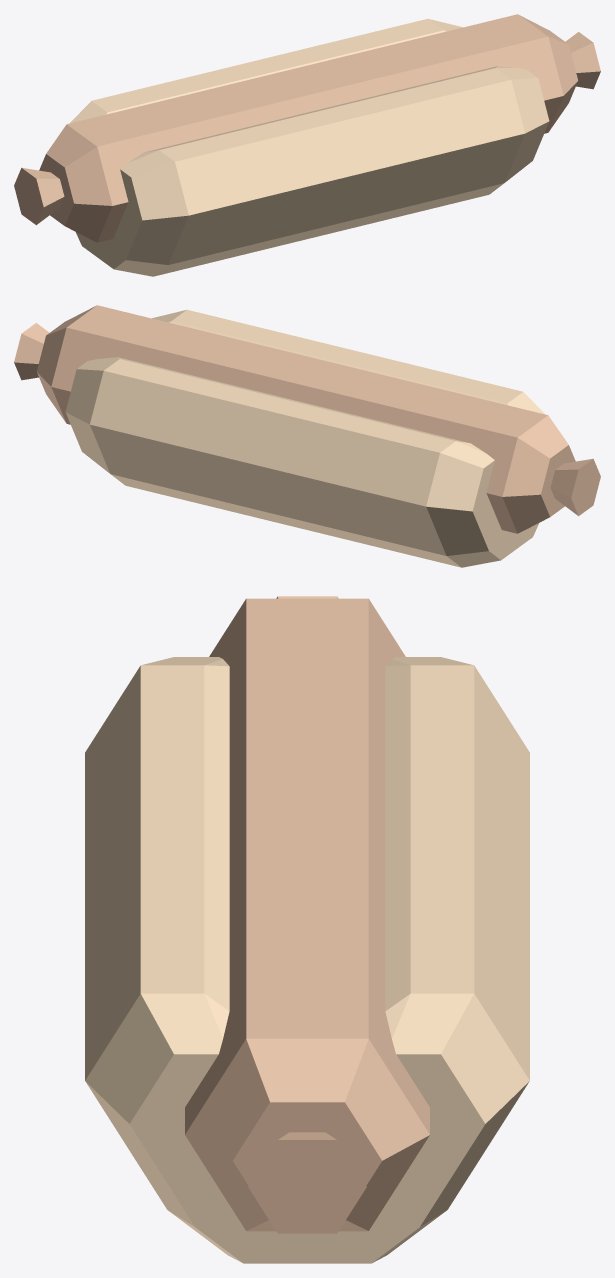
The model's file is hotDog.glb.
3 views of the same model, one above another, from view 1: azimuth 30°, elevation 25°; view 2: azimuth 150°, elevation 25°; view 3: azimuth 270°, elevation 25° (orthographic). The views are drawn at different scales.
Parts seen in each view (by area): view 1: hotDog, sausage; view 2: hotDog, sausage; view 3: hotDog, sausage.
Part boxes in pixels (x1,y1,x2,y2): hotDog: (69, 18, 549, 276); sausage: (14, 14, 600, 242); hotDog: (65, 309, 545, 567); sausage: (14, 305, 600, 533); hotDog: (85, 657, 529, 1263); sausage: (185, 596, 429, 1233).
Bounding box in the file's own units: 0.5859 × 0.1399 × 0.2026.
